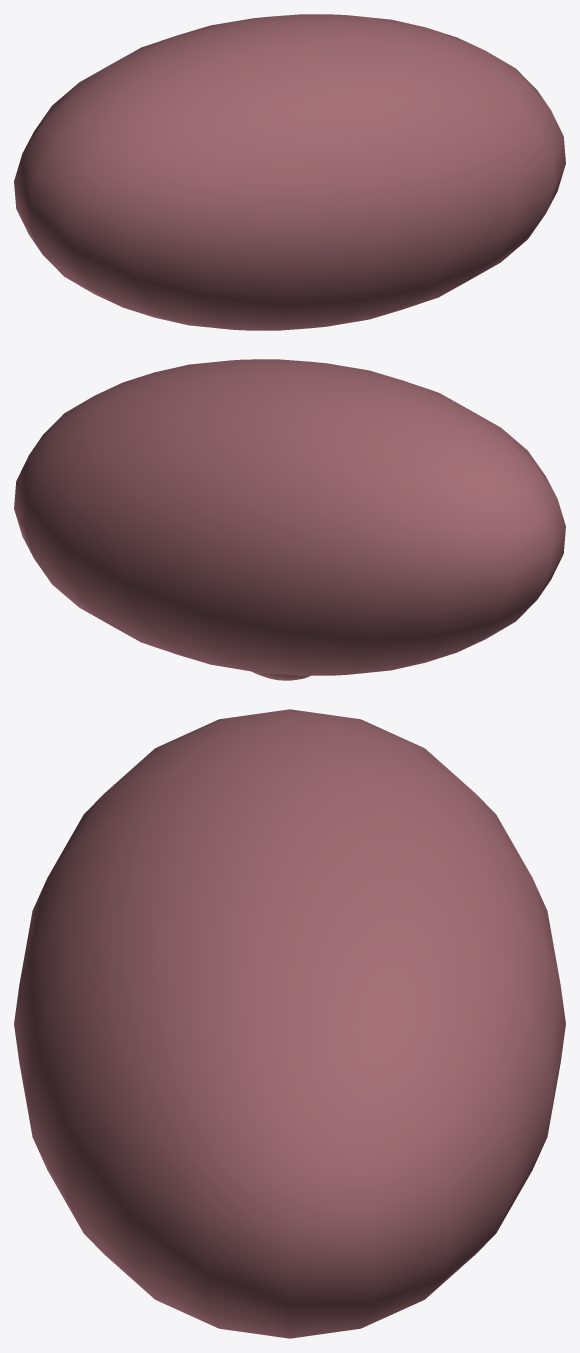
File: liver.glb
The picture shows the model from 3 angles, top to bottom: view 1: azimuth 30°, elevation 25°; view 2: azimuth 150°, elevation 25°; view 3: azimuth 270°, elevation 25°; orthographic projection. The views are drawn at different scales.
Parts seen in each view (by area): view 1: liver-302; view 2: liver-302; view 3: liver-302.
Part boxes in pixels (x1,y1,x2,y2): liver-302: (14, 14, 565, 330); liver-302: (14, 359, 565, 675); liver-302: (14, 709, 565, 1338).
Bounding box in the file's own units: 0.7962 × 0.4121 × 0.476.
